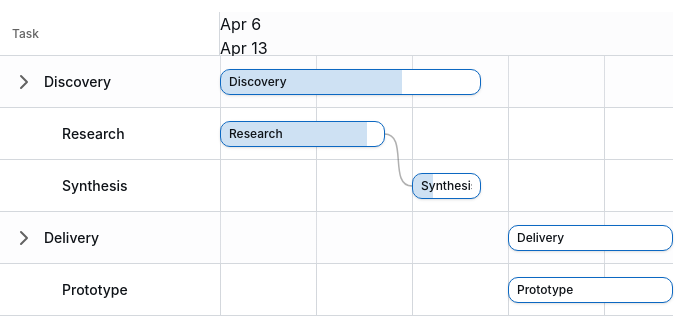
it: @moritzbrantner/ui gantt › renders nested tasks expanded by default and collapses descendants
The width and height of the screenshot is (690, 333).
Expected: the button "Research" is shown, [220,121,385,147]
Click the button named "Collapse Discovery" at (24,82), box [12,70,36,94]
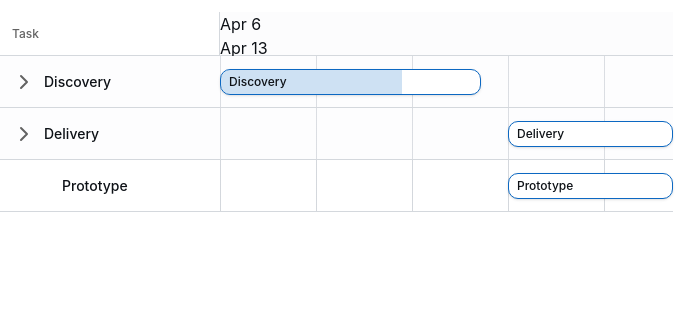
Expected: the text "Research" is gone
Click the button named "Expand Discovery" at (24,82), box [12,70,36,94]
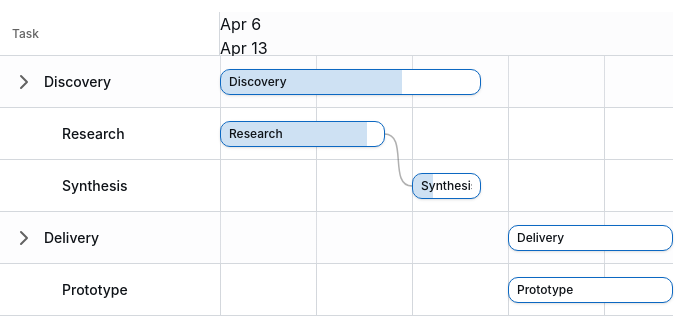
Expected: the button "Research" is shown, [220,121,385,147]
